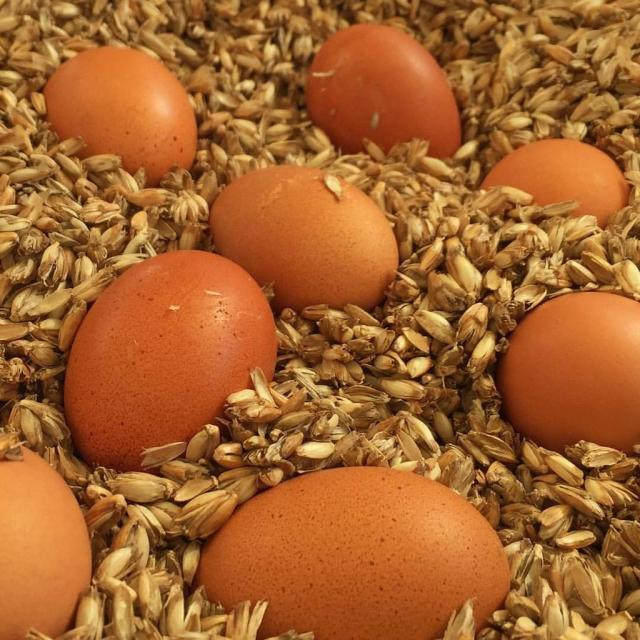Egg: (196, 466, 508, 639), (63, 251, 277, 475), (206, 162, 400, 320), (498, 288, 639, 454), (45, 45, 200, 191), (302, 23, 462, 161), (0, 442, 94, 639), (478, 138, 634, 231)
